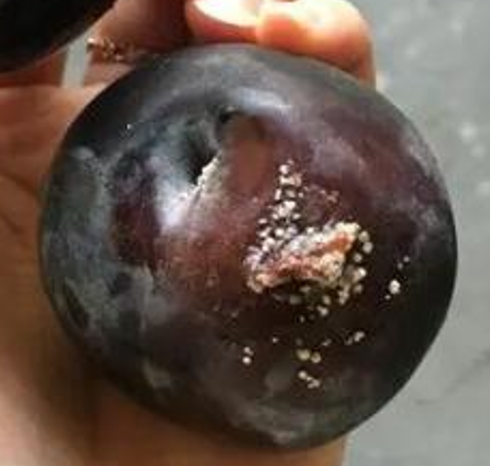plum_C: (37, 42, 459, 451)
